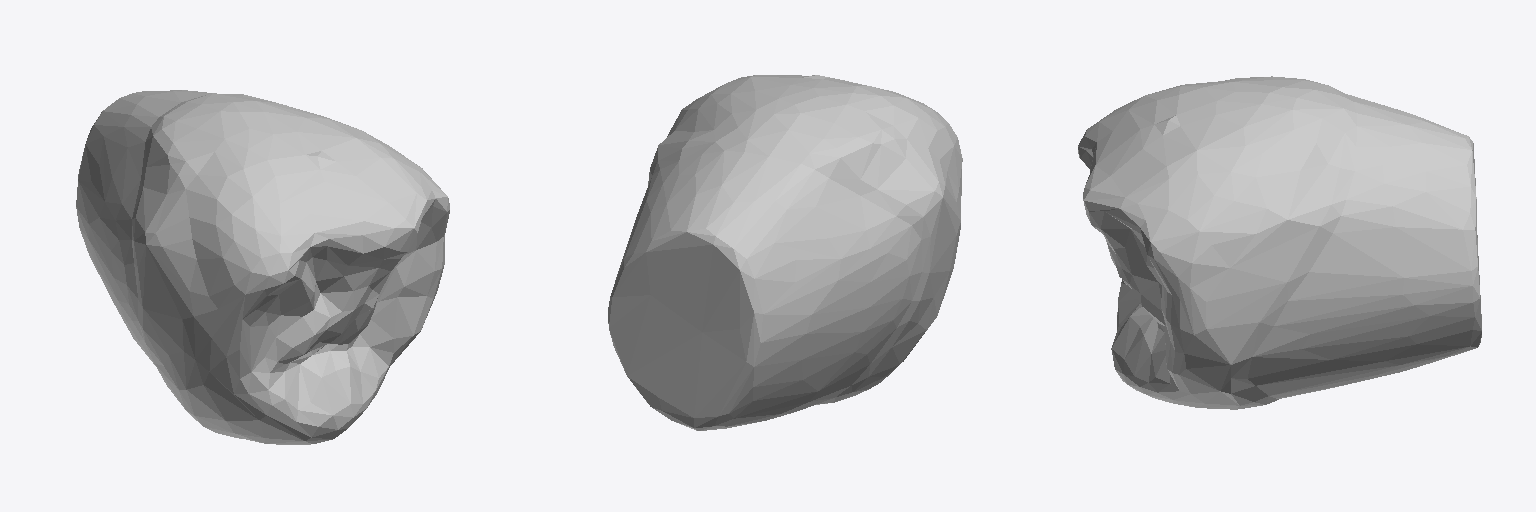
The model's file is local_t35_7780_si.OBJ.
3 views of the same model, side by side, from view 1: azimuth 30°, elevation 25°; view 2: azimuth 150°, elevation 25°; view 3: azimuth 270°, elevation 25° (orthographic).
Parts seen in each view (by area): view 1: Group16353; view 2: Group16353; view 3: Group16353.
Boxes of the visible parts, x1=… form: Group16353: x1=76, y1=90, x2=449, y2=444; Group16353: x1=608, y1=75, x2=962, y2=430; Group16353: x1=1078, y1=76, x2=1481, y2=409.
Bounding box in the file's own units: 7.91 × 8.1 × 9.73.